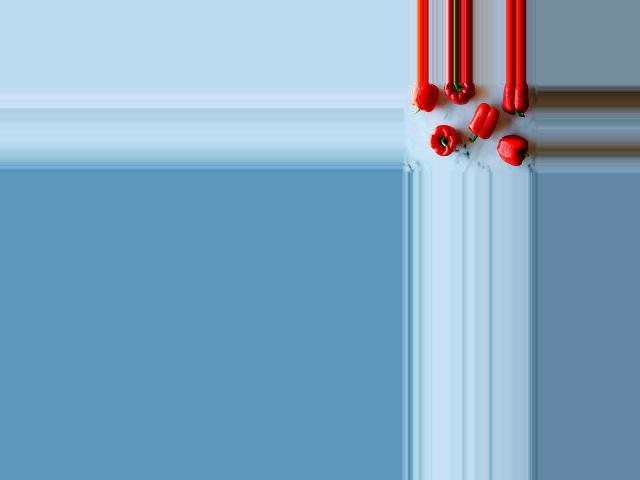bell_pepper: (445, 83, 475, 105)
